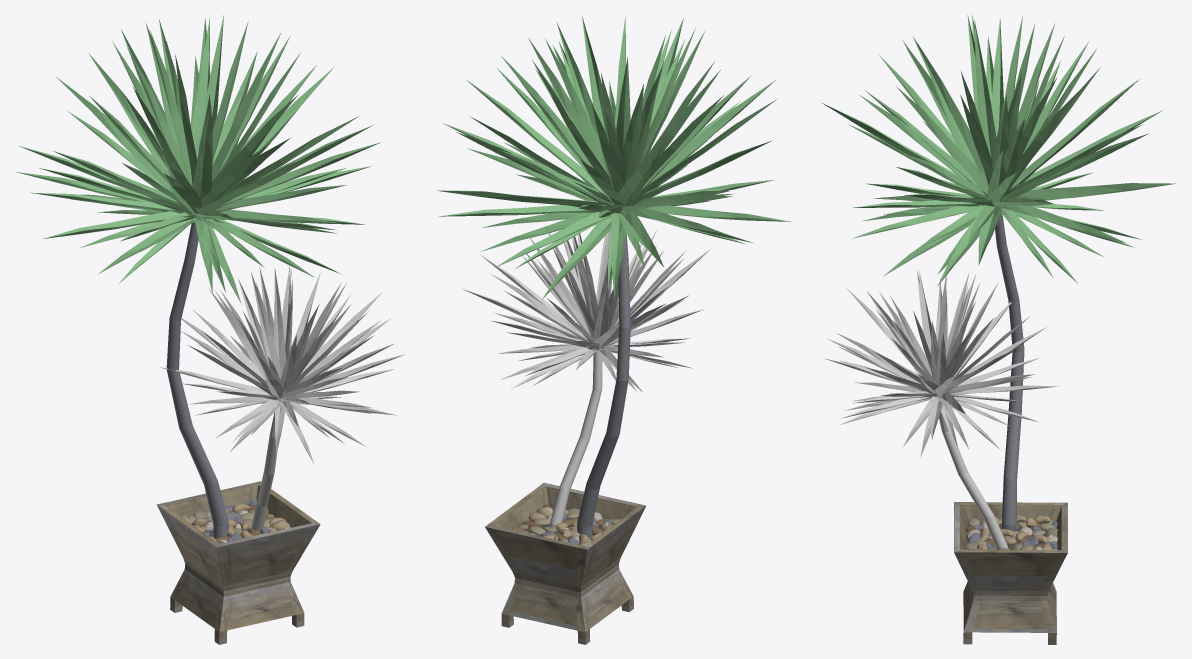
Rendered from yuccaPlant.obj.
The picture shows the model from 3 angles, left to right: view 1: azimuth 30°, elevation 25°; view 2: azimuth 150°, elevation 25°; view 3: azimuth 270°, elevation 25°; orthographic projection. The views are drawn at different scales.
Visible parts, largest first — view 1: Spike_plant_1_Plane.1071, Spike_plant_2_Plane.1169, Pot_1_Plane.1171, Spike_trunk_2_Cylinder, Rock_0_Sphere.000, Spike_trunk_1_Cylinder.001; view 2: Spike_plant_1_Plane.1071, Pot_1_Plane.1171, Spike_plant_2_Plane.1169, Spike_trunk_2_Cylinder, Rock_0_Sphere.000, Spike_trunk_1_Cylinder.001; view 3: Spike_plant_1_Plane.1071, Spike_plant_2_Plane.1169, Pot_1_Plane.1171, Spike_trunk_2_Cylinder, Rock_0_Sphere.000, Spike_trunk_1_Cylinder.001.
Boxes of the visible parts, x1,y1,x2,y2 form: Spike_plant_1_Plane.1071: (16,15,381,304); Spike_plant_2_Plane.1169: (160,266,404,463); Pot_1_Plane.1171: (156,481,320,644); Spike_trunk_2_Cylinder: (166,222,228,538); Rock_0_Sphere.000: (180,499,290,543); Spike_trunk_1_Cylinder.001: (251,401,281,533); Spike_plant_1_Plane.1071: (437,15,790,299); Pot_1_Plane.1171: (485,482,645,644); Spike_plant_2_Plane.1169: (463,230,710,392); Spike_trunk_2_Cylinder: (577,212,630,537); Rock_0_Sphere.000: (512,504,620,545); Spike_trunk_1_Cylinder.001: (549,352,602,529); Spike_plant_1_Plane.1071: (822,15,1175,286); Spike_plant_2_Plane.1169: (824,269,1058,457); Pot_1_Plane.1171: (954,502,1067,644); Spike_trunk_2_Cylinder: (995,213,1024,537); Rock_0_Sphere.000: (964,515,1057,550); Spike_trunk_1_Cylinder.001: (938,397,1008,549).
Size of the model in its own units: 108 by 181 by 103.
